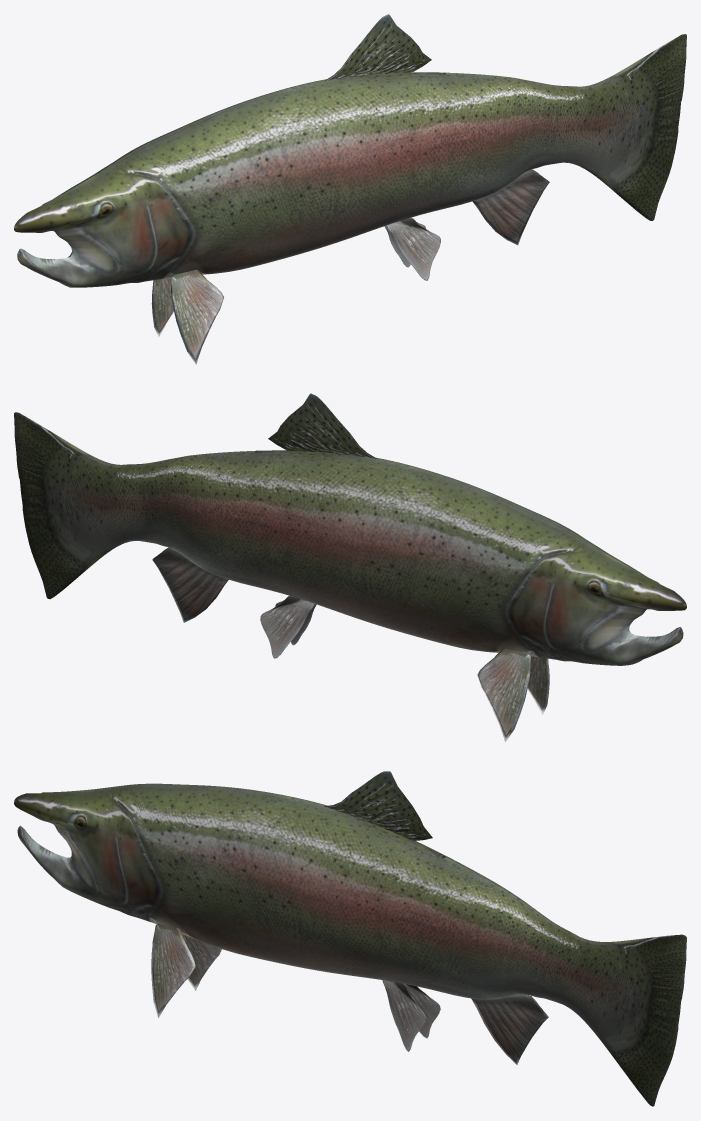
The model's file is Big_Fish.fbx.
3 views of the same model, one above another, from view 1: azimuth 30°, elevation 25°; view 2: azimuth 150°, elevation 25°; view 3: azimuth 330°, elevation 25° (orthographic).
Parts seen in each view (by area): view 1: polySurface36; view 2: polySurface36; view 3: polySurface36.
Part boxes in pixels (left/top/right/bottom): polySurface36: left=14, top=14, right=686, bottom=364; polySurface36: left=14, top=393, right=686, bottom=742; polySurface36: left=14, top=771, right=686, bottom=1106.
Bounding box in the file's own units: 27.21 × 10.99 × 2.76.
1 material, 1 textured.
